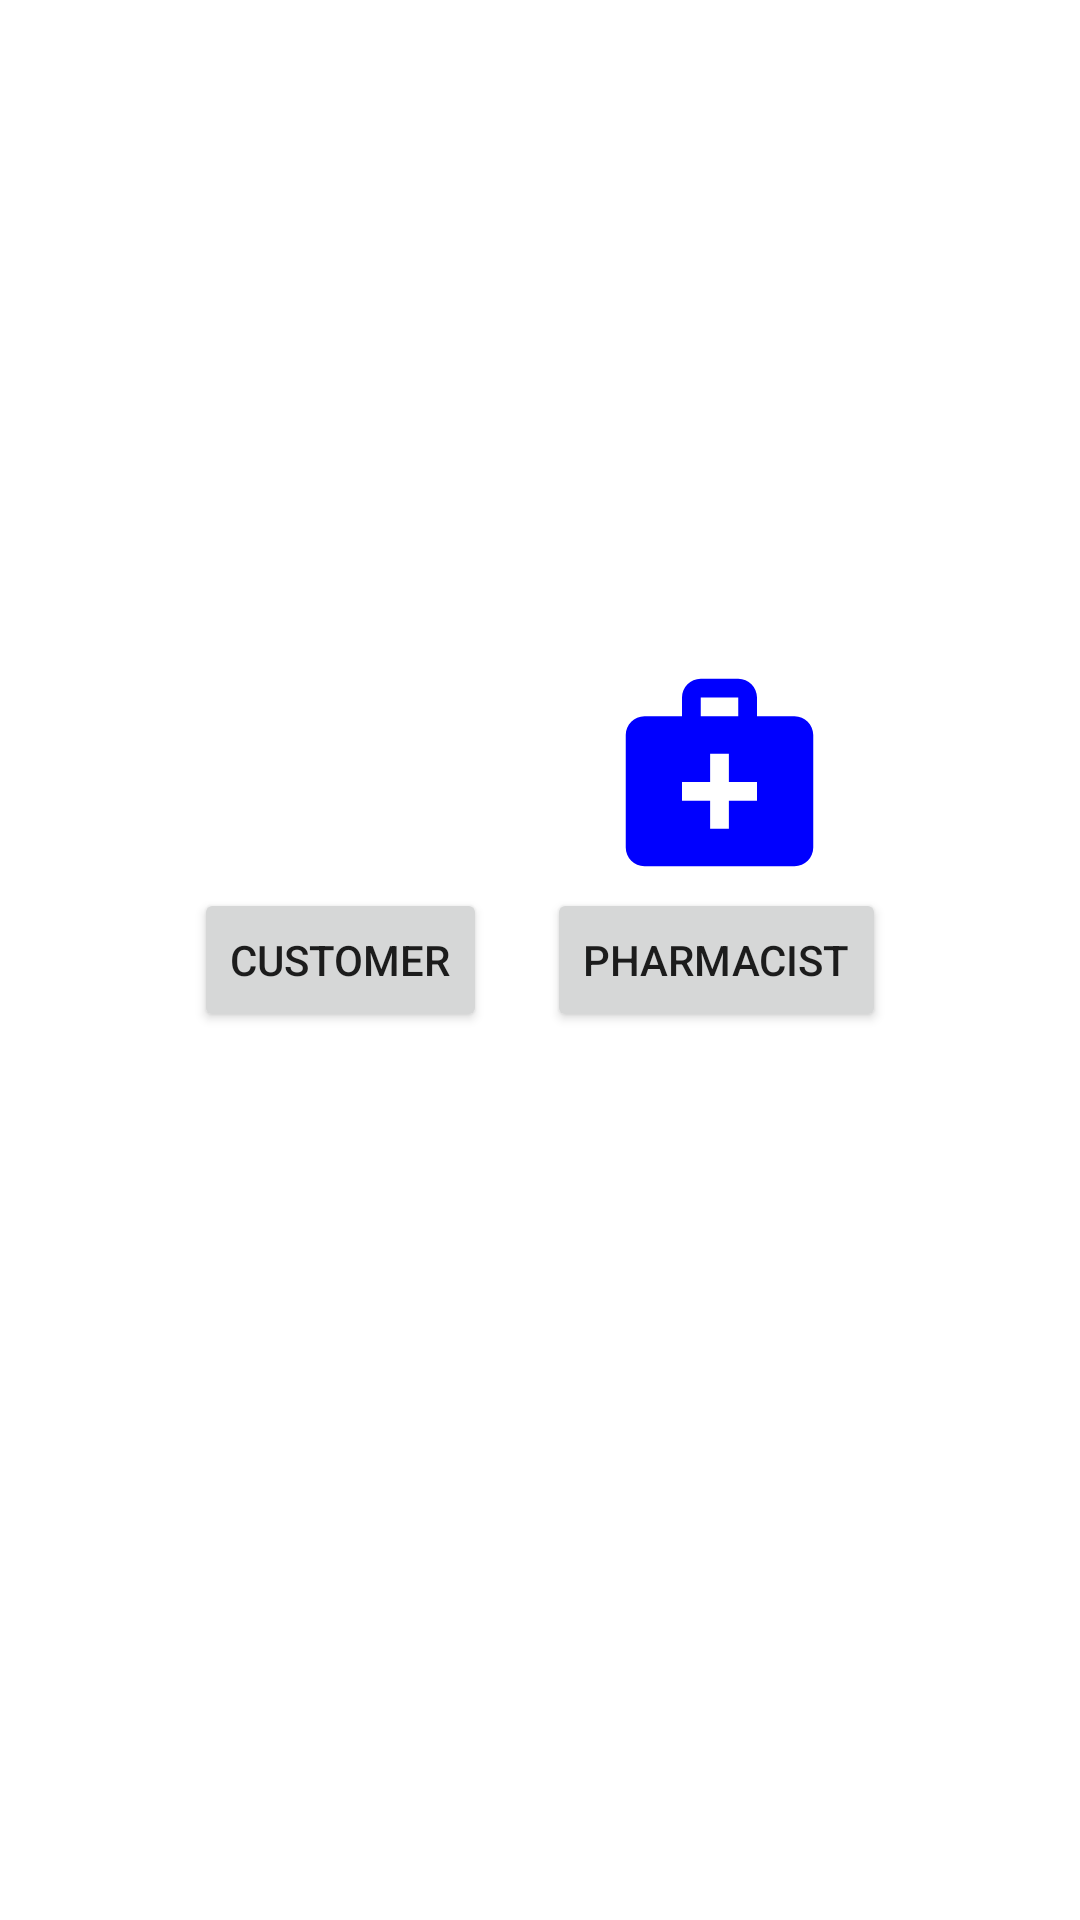

Where to tap for icons on this 1080×1920 app screen, as point (x, y):
pharmacy: point (719, 772)
